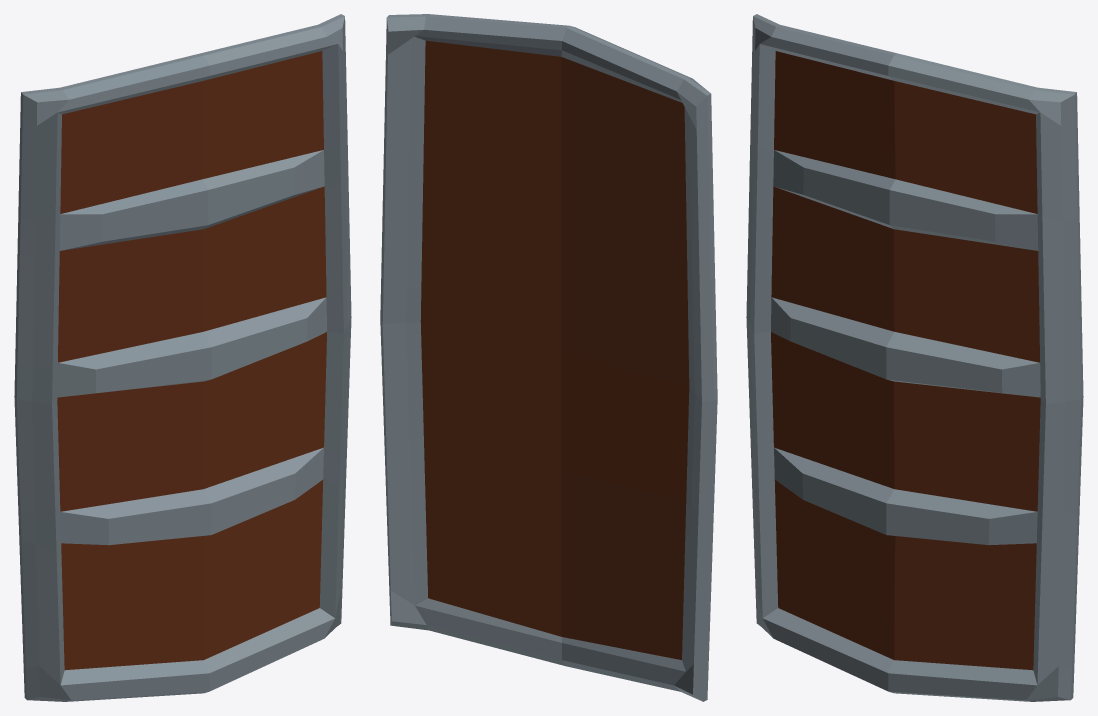
The model's file is BasicTall.fbx.
3 views of the same model, side by side, from view 1: azimuth 30°, elevation 25°; view 2: azimuth 150°, elevation 25°; view 3: azimuth 330°, elevation 25° (orthographic).
Visible parts, largest first — view 1: TallBasic; view 2: TallBasic; view 3: TallBasic.
Boxes of the visible parts, bbox=[...] form: TallBasic: bbox=[14, 14, 351, 701]; TallBasic: bbox=[380, 14, 717, 701]; TallBasic: bbox=[746, 14, 1083, 701].
Size of the model in its own units: 88.66 by 161 by 16.18.
